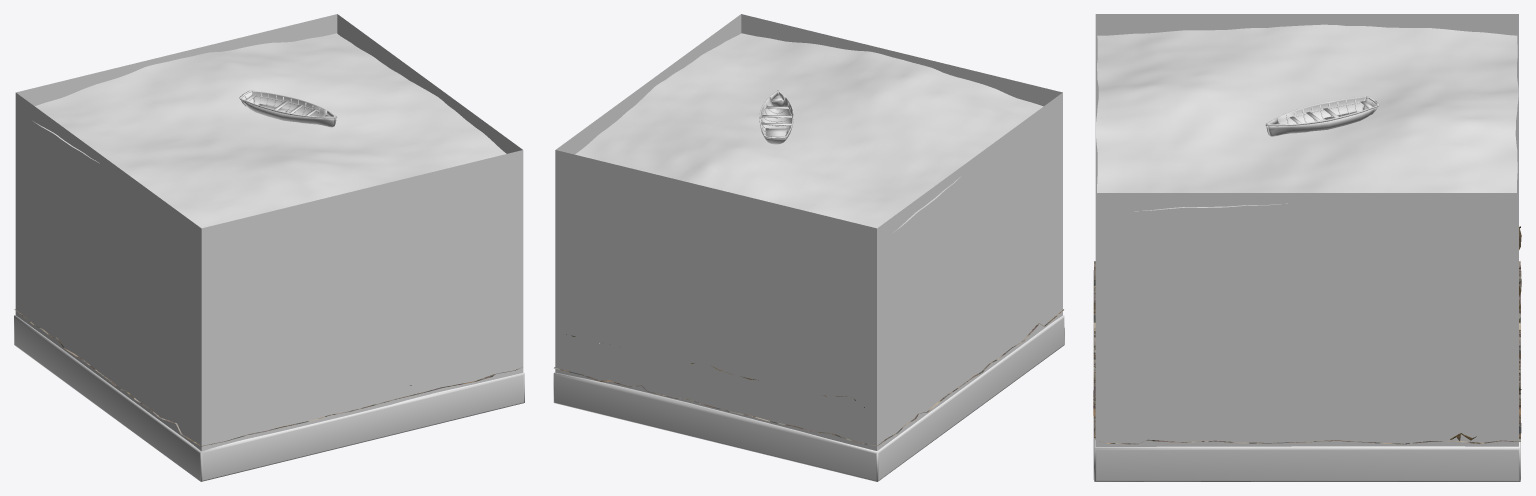
File: Tawar.fbx
3 renders of one model, left to right at view 1: azimuth 30°, elevation 25°; view 2: azimuth 150°, elevation 25°; view 3: azimuth 270°, elevation 25°, orthographic. The views are drawn at different scales.
Parts seen in each view (by area): view 1: Water, Permukaan Air, Cube, WoodenBoat, Dasar; view 2: Water, Permukaan Air, Cube, WoodenBoat, Dasar; view 3: Water, Permukaan Air, Cube, WoodenBoat, Dasar.
Boxes of the visible parts, x1=… form: Water: x1=15, y1=14, x2=523, y2=451; Permukaan Air: x1=33, y1=33, x2=506, y2=228; Cube: x1=14, y1=315, x2=524, y2=481; WoodenBoat: x1=239, y1=90, x2=337, y2=127; Dasar: x1=14, y1=309, x2=522, y2=446; Water: x1=555, y1=14, x2=1062, y2=450; Permukaan Air: x1=575, y1=33, x2=1043, y2=232; Cube: x1=553, y1=315, x2=1064, y2=481; WoodenBoat: x1=759, y1=90, x2=793, y2=144; Dasar: x1=554, y1=309, x2=1063, y2=446; Water: x1=1095, y1=14, x2=1518, y2=446; Permukaan Air: x1=1096, y1=24, x2=1518, y2=211; Cube: x1=1093, y1=270, x2=1520, y2=481; WoodenBoat: x1=1265, y1=96, x2=1379, y2=136; Dasar: x1=1093, y1=261, x2=1521, y2=444.
Bounding box in the file's own units: 201 × 153 × 201.
Materials: 10 (3 with a texture image).
